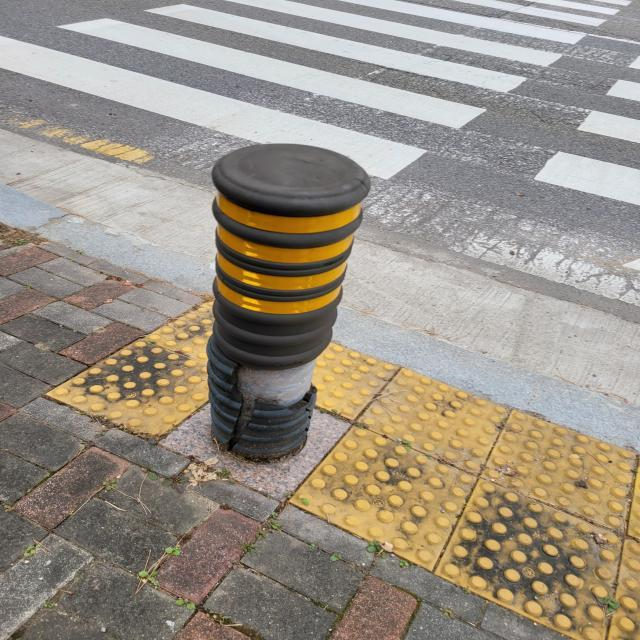pole: (200, 140, 370, 461)
